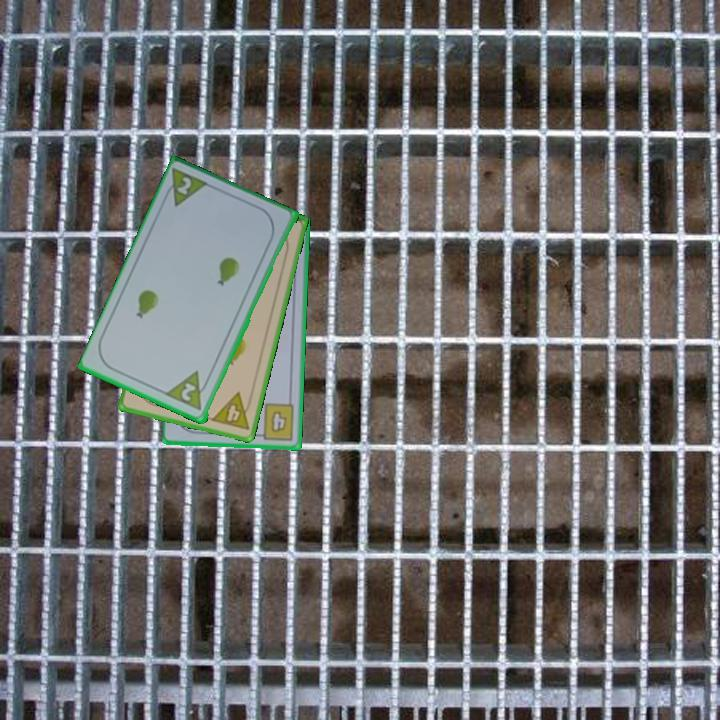2p: (164, 368, 213, 414), (173, 173, 195, 198)
4b: (253, 400, 298, 443)
4p: (208, 389, 256, 433)
